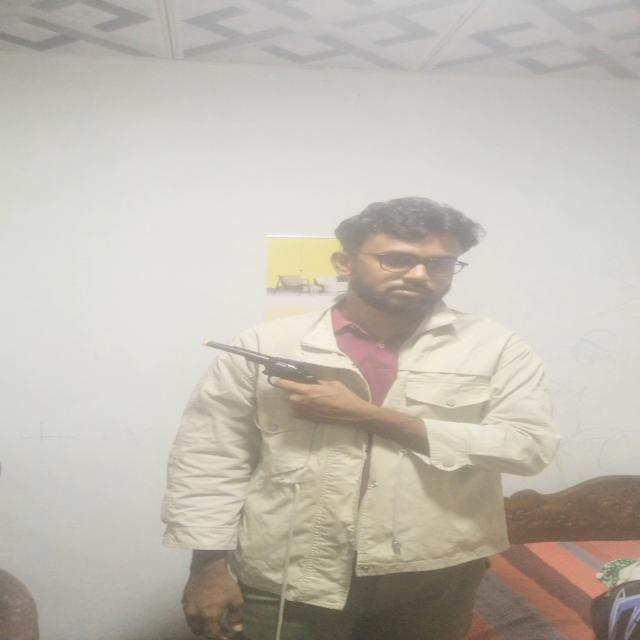Gun_Holder: (175, 341, 346, 407)
Jacket_Wearer: (148, 303, 576, 586)
Person: (152, 193, 574, 640)
